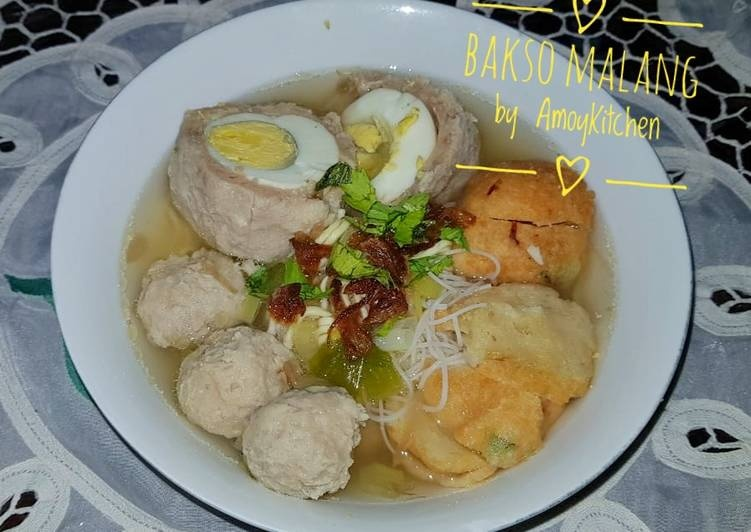bakso_malang: (121, 78, 613, 505)
